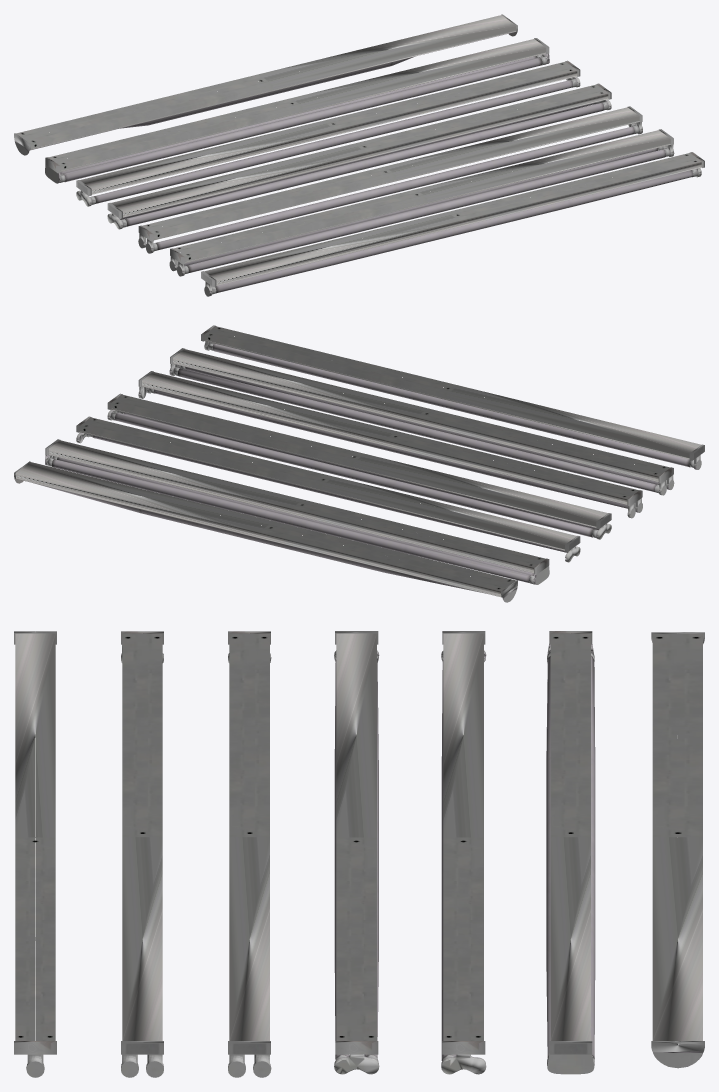
File: mounted_fluorescent_lights.glb
3 renders of one model, top to bottom at view 1: azimuth 30°, elevation 25°; view 2: azimuth 150°, elevation 25°; view 3: azimuth 270°, elevation 25°, orthographic. The views are drawn at different scales.
Parts seen in each view (by area): view 1: mounted_fluorescent_lights_b, mounted_fluorescent_lights_f, mounted_fluorescent_lights_d, mounted_fluorescent_lights_c, mounted_fluorescent_lights_e, mounted_fluorescent_lights_a, mounted_fluorescent_lights_g; view 2: mounted_fluorescent_lights_b, mounted_fluorescent_lights_f, mounted_fluorescent_lights_d, mounted_fluorescent_lights_a, mounted_fluorescent_lights_g, mounted_fluorescent_lights_c, mounted_fluorescent_lights_e; view 3: mounted_fluorescent_lights_g, mounted_fluorescent_lights_f, mounted_fluorescent_lights_d, mounted_fluorescent_lights_e, mounted_fluorescent_lights_c, mounted_fluorescent_lights_b, mounted_fluorescent_lights_a.
Boxes of the visible parts, bbox=[...] form: mounted_fluorescent_lights_b: bbox=[169, 129, 674, 276]; mounted_fluorescent_lights_f: bbox=[45, 38, 549, 183]; mounted_fluorescent_lights_d: bbox=[107, 83, 611, 229]; mounted_fluorescent_lights_c: bbox=[138, 106, 642, 253]; mounted_fluorescent_lights_e: bbox=[76, 60, 580, 206]; mounted_fluorescent_lights_a: bbox=[201, 152, 704, 296]; mounted_fluorescent_lights_g: bbox=[14, 14, 517, 155]; mounted_fluorescent_lights_b: bbox=[169, 348, 674, 495]; mounted_fluorescent_lights_f: bbox=[45, 439, 549, 584]; mounted_fluorescent_lights_d: bbox=[107, 393, 611, 539]; mounted_fluorescent_lights_a: bbox=[201, 325, 704, 469]; mounted_fluorescent_lights_g: bbox=[14, 461, 517, 602]; mounted_fluorescent_lights_c: bbox=[138, 371, 642, 518]; mounted_fluorescent_lights_e: bbox=[76, 416, 580, 562]; mounted_fluorescent_lights_g: bbox=[651, 632, 704, 1068]; mounted_fluorescent_lights_f: bbox=[546, 631, 595, 1074]; mounted_fluorescent_lights_d: bbox=[334, 631, 379, 1074]; mounted_fluorescent_lights_e: bbox=[441, 631, 486, 1074]; mounted_fluorescent_lights_c: bbox=[228, 631, 271, 1077]; mounted_fluorescent_lights_b: bbox=[121, 631, 163, 1077]; mounted_fluorescent_lights_a: bbox=[14, 631, 56, 1077].
Size of the model in its own units: 0.9122 by 0.0353 by 0.6455.
Materials: 2 (2 with a texture image).
